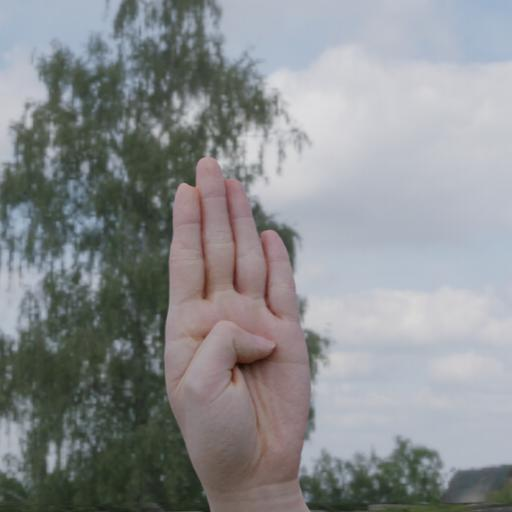B: (162, 150, 314, 480)
